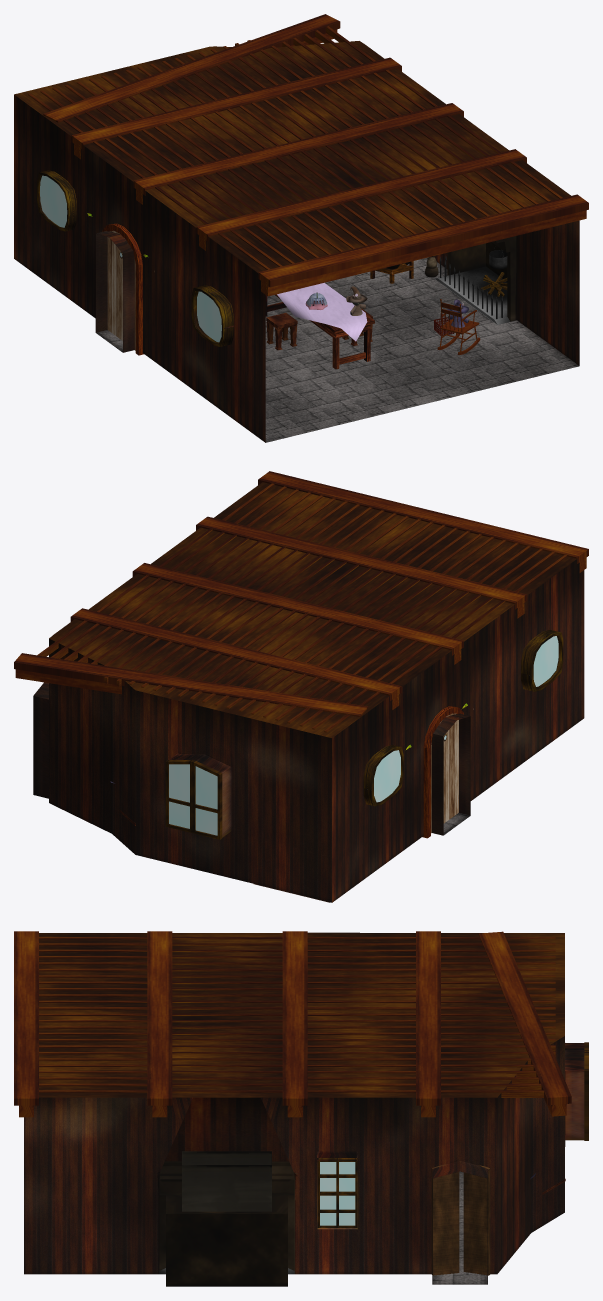
The model's file is 354_bg_pumpkingC.fbx.
The picture shows the model from 3 angles, top to bottom: view 1: azimuth 30°, elevation 25°; view 2: azimuth 150°, elevation 25°; view 3: azimuth 270°, elevation 25°; orthographic projection. The views are drawn at different scales.
Visible parts, largest first — view 1: polySurface12, pCube115, pCube114, pCube111, pCube112, pCube113, pPlane10, Door3, window2, Door5, pCube160, polySurface14 (+28 smaller); view 2: polySurface12, pCube114, pCube113, pCube115, pCube112, pCube111, polySurface16, pPlane8, Door3, window2, Door5, polySurface14 (+27 smaller); view 3: polySurface12, pCube114, pCube111, pCube112, pCube115, pCube113, polySurface2, polySurface7, polySurface13, pCube109, pCube91, pCube110 (+24 smaller).
Boxes of the visible parts, <box> form: polySurface12: <box>14,41,579,442</box>; pCube115: <box>258,194,588,296</box>; pCube114: <box>43,14,340,122</box>; pCube111: <box>196,149,526,250</box>; pCube112: <box>133,103,463,204</box>; pCube113: <box>71,57,401,159</box>; pPlane10: <box>277,282,367,341</box>; Door3: <box>107,230,135,350</box>; window2: <box>191,285,233,346</box>; Door5: <box>102,223,143,355</box>; pCube160: <box>265,294,371,369</box>; polySurface14: <box>40,175,67,227</box>; polySurface12: <box>33,482,584,902</box>; pCube114: <box>14,653,368,716</box>; pCube113: <box>70,608,401,709</box>; pCube115: <box>258,471,588,572</box>; pCube112: <box>132,563,463,664</box>; pCube111: <box>196,516,526,618</box>; polySurface16: <box>169,764,217,835</box>; pPlane8: <box>165,760,222,839</box>; Door3: <box>431,713,458,833</box>; window2: <box>521,630,563,691</box>; Door5: <box>422,706,463,838</box>; polySurface14: <box>374,750,400,802</box>; polySurface12: <box>24,932,584,1286</box>; pCube114: <box>478,931,571,1116</box>; pCube111: <box>147,931,172,1117</box>; pCube112: <box>282,931,307,1117</box>; pCube115: <box>14,931,38,1117</box>; pCube113: <box>416,931,440,1117</box>; polySurface2: <box>431,1164,459,1275</box>; polySurface7: <box>463,1165,490,1275</box>; polySurface13: <box>320,1162,355,1225</box>; pCube109: <box>39,1083,541,1090</box>; pCube91: <box>39,968,555,971</box>; pCube110: <box>39,1090,543,1097</box>.
Size of the model in its own units: 1764 by 793 by 2282.
